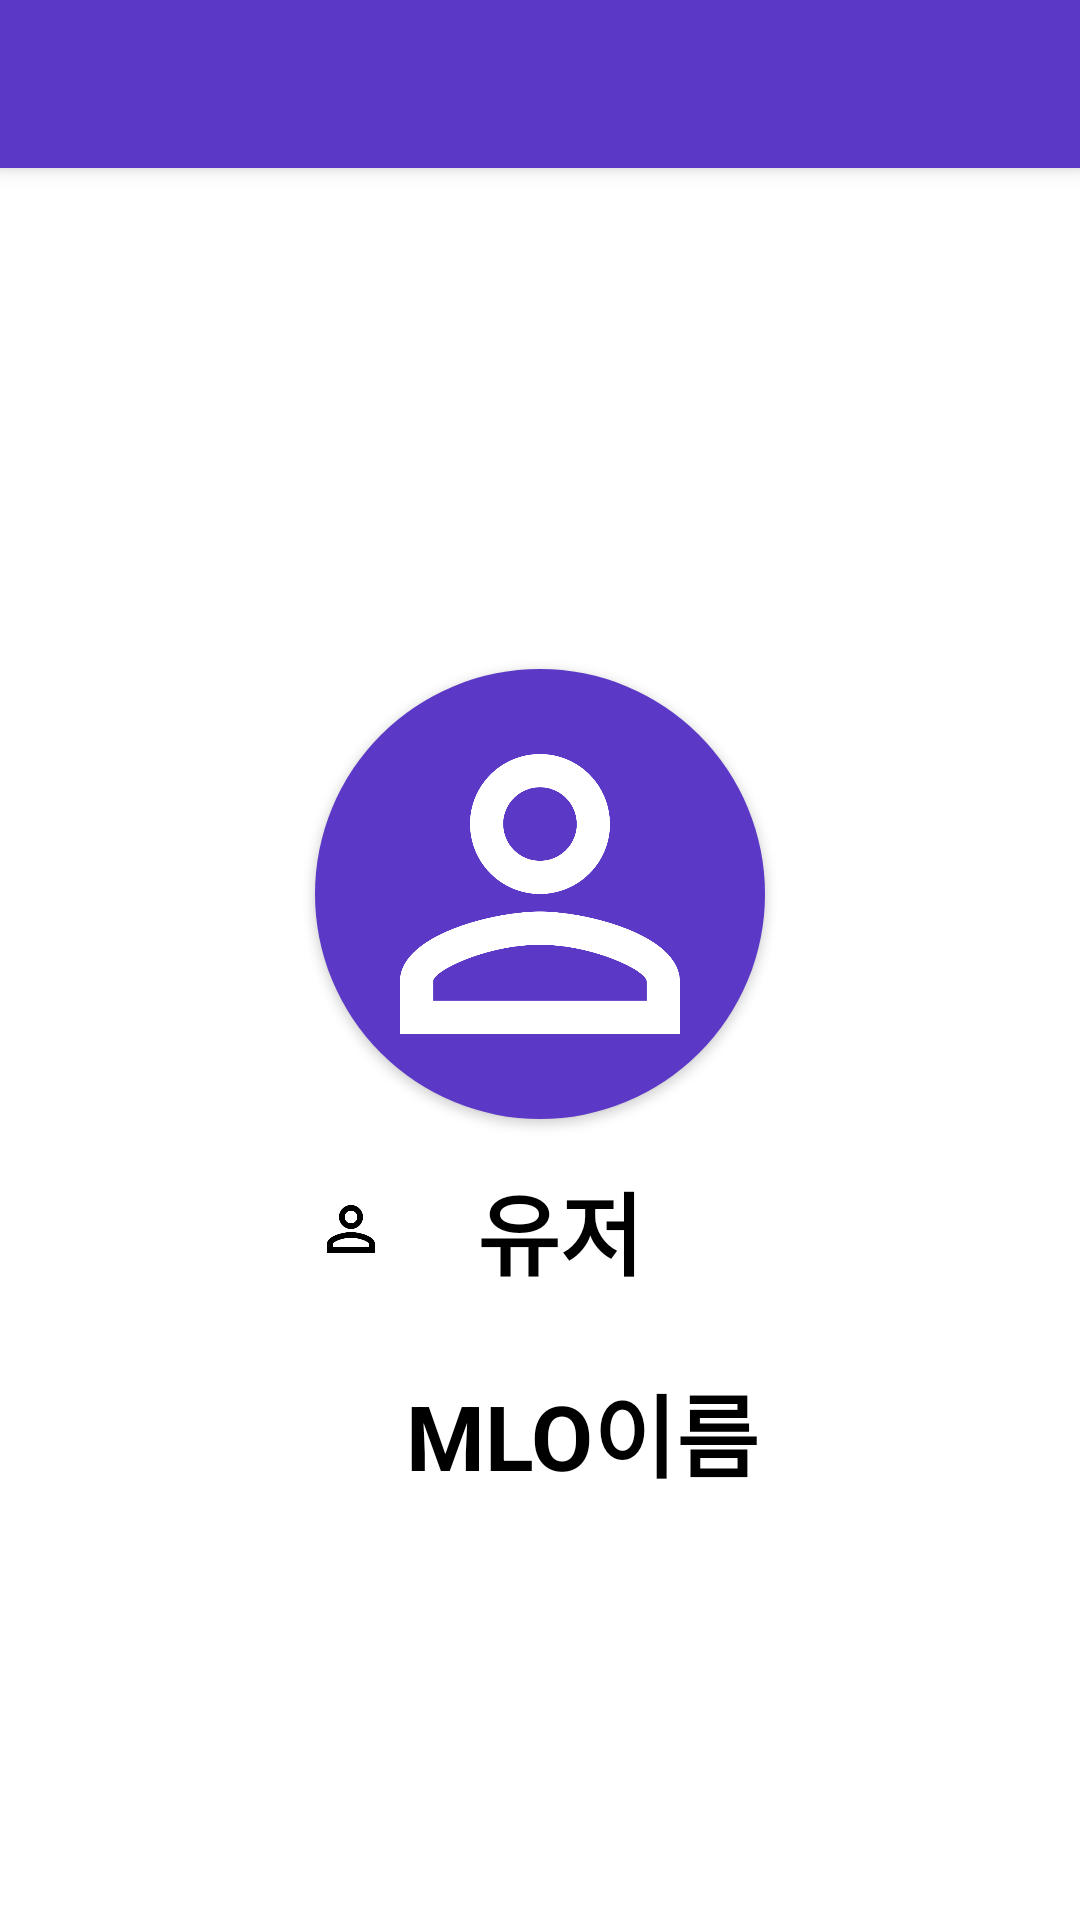

Named icons in this screenshot (1080*1920) and their bounding boxes, box=[x1, y1, x2, y2]:
saram: box=[327, 1205, 375, 1253]
